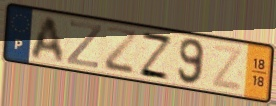9: (177, 37, 207, 87)
A: (28, 15, 66, 64)
Z: (65, 19, 104, 71), (137, 30, 175, 83), (102, 24, 139, 77), (210, 42, 245, 94)
